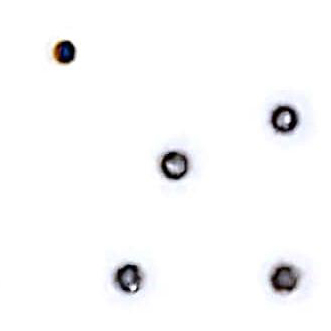cancer: (245, 86, 319, 152), (141, 130, 208, 196), (255, 248, 320, 312), (108, 244, 166, 309)
normal: (39, 20, 91, 74)
